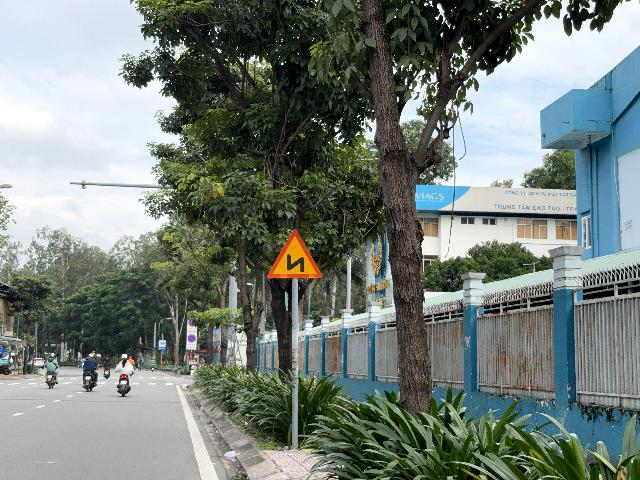nhieu-cho-ngoat-nguy-hiem-lien-tiep: (267, 229, 322, 278)
